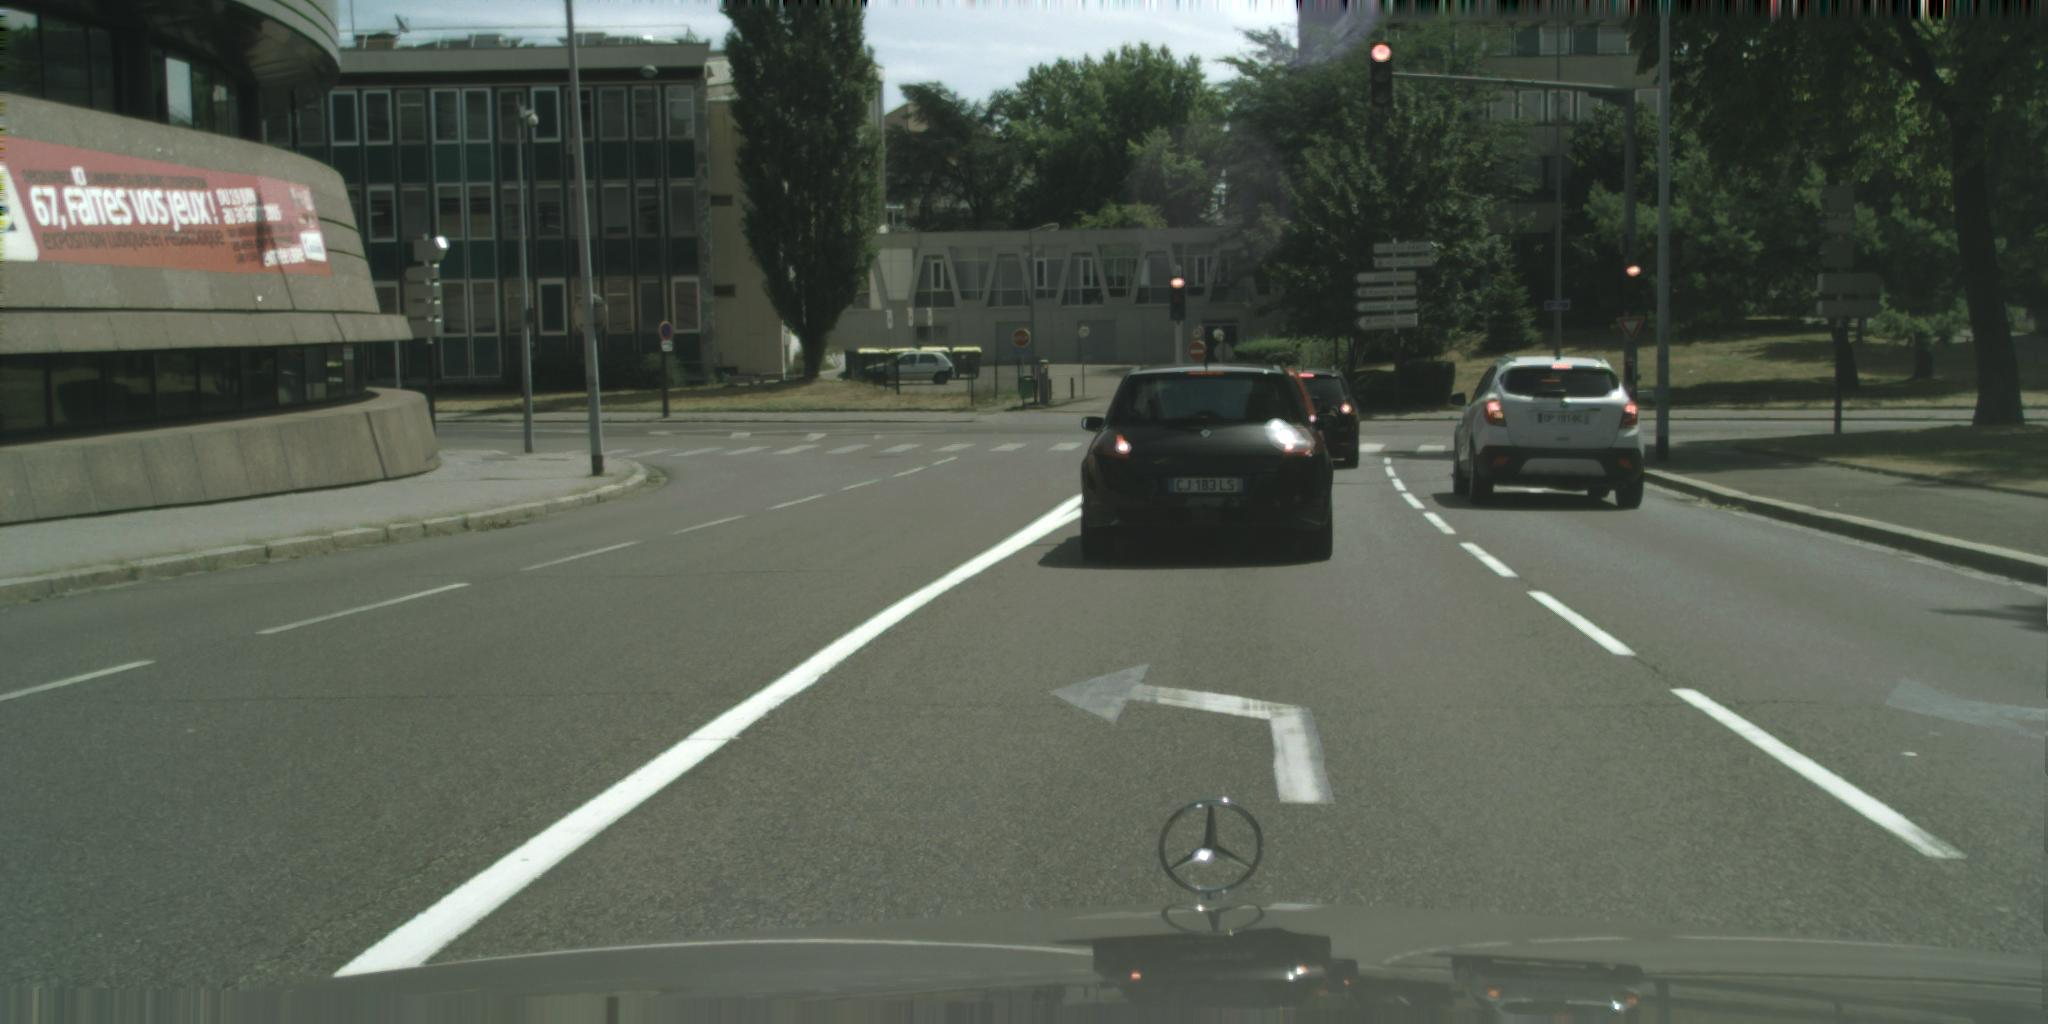car: (1076, 363, 1341, 564), (1448, 354, 1646, 512), (1273, 366, 1362, 472), (1277, 366, 1341, 472), (889, 353, 955, 387)
